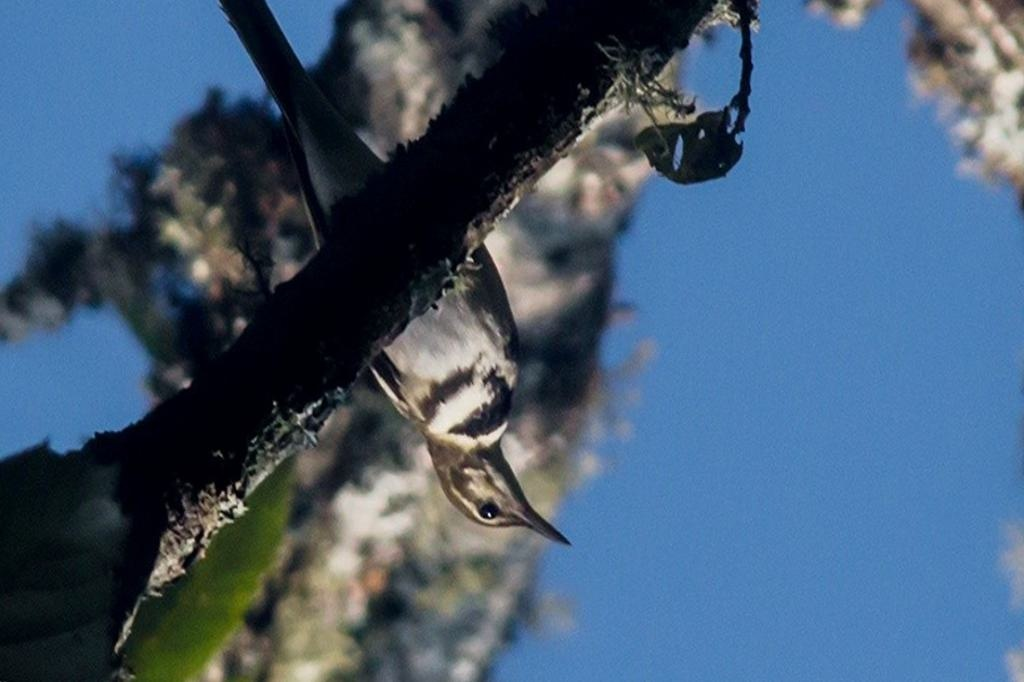wagtail: (194, 56, 585, 571)
